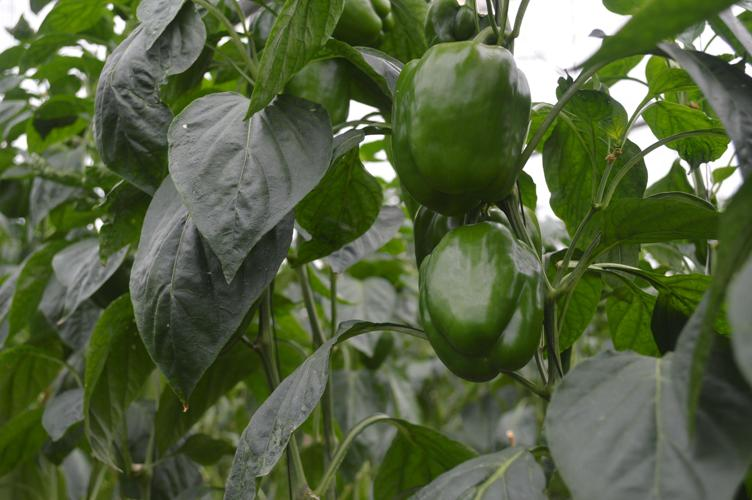BellPepper: (383, 44, 531, 208), (416, 224, 546, 370), (276, 57, 352, 116), (407, 204, 502, 247), (323, 1, 391, 41)
